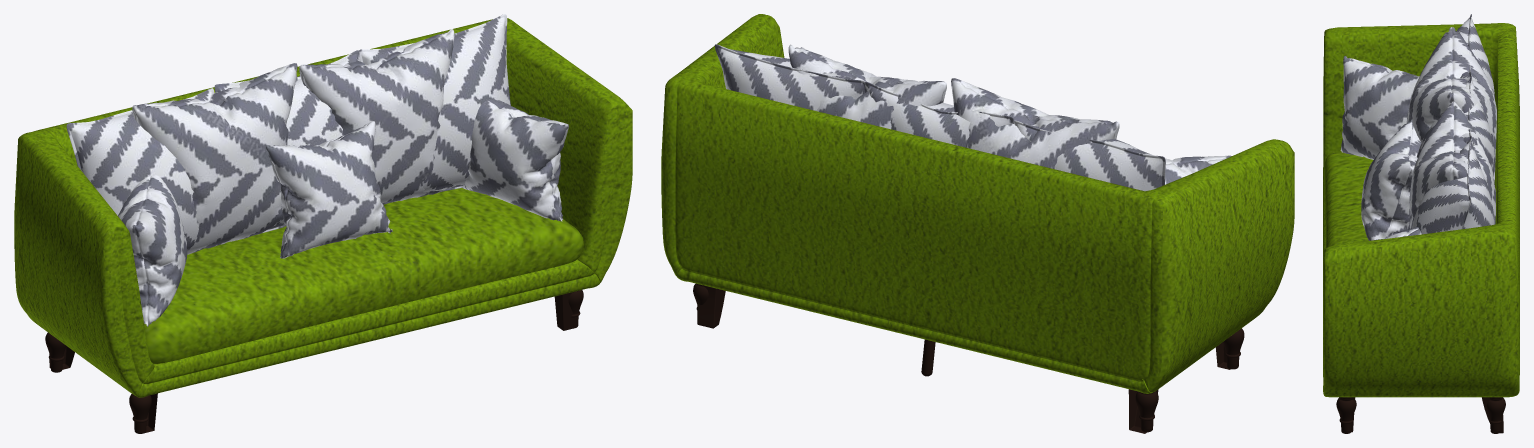
3 renders of one model, left to right at view 1: azimuth 30°, elevation 25°; view 2: azimuth 150°, elevation 25°; view 3: azimuth 270°, elevation 25°, orthographic. The views are drawn at different scales.
Visible parts, largest first — view 1: pillow_02_geo, couch, seat, pillow_01_geo, Legs_02_geo, Legs_01_geo; view 2: couch, pillow_02_geo, pillow_01_geo, Legs_01_geo, Legs_02_geo; view 3: couch, pillow_02_geo, pillow_01_geo, seat, Legs_02_geo, Legs_01_geo.
Part boxes in pixels (bbox=[...]): pillow_02_geo: bbox=[118, 29, 568, 326]; couch: bbox=[14, 18, 632, 397]; seat: bbox=[144, 188, 583, 363]; pillow_01_geo: bbox=[66, 14, 510, 250]; Legs_02_geo: bbox=[45, 290, 583, 433]; Legs_01_geo: bbox=[49, 290, 578, 432]; couch: bbox=[661, 14, 1294, 393]; pillow_02_geo: bbox=[788, 44, 1231, 184]; pillow_01_geo: bbox=[714, 44, 1165, 191]; Legs_01_geo: bbox=[697, 284, 1230, 433]; Legs_02_geo: bbox=[693, 283, 1244, 432]; couch: bbox=[1323, 23, 1519, 397]; pillow_02_geo: bbox=[1340, 27, 1496, 240]; pillow_01_geo: bbox=[1411, 14, 1494, 234]; seat: bbox=[1324, 152, 1373, 247]; Legs_02_geo: bbox=[1336, 397, 1505, 433]; Legs_01_geo: bbox=[1339, 397, 1503, 433].
Bounding box in the file's own units: 2.09 × 1.03 × 0.7535.
4 materials, 3 textured.
